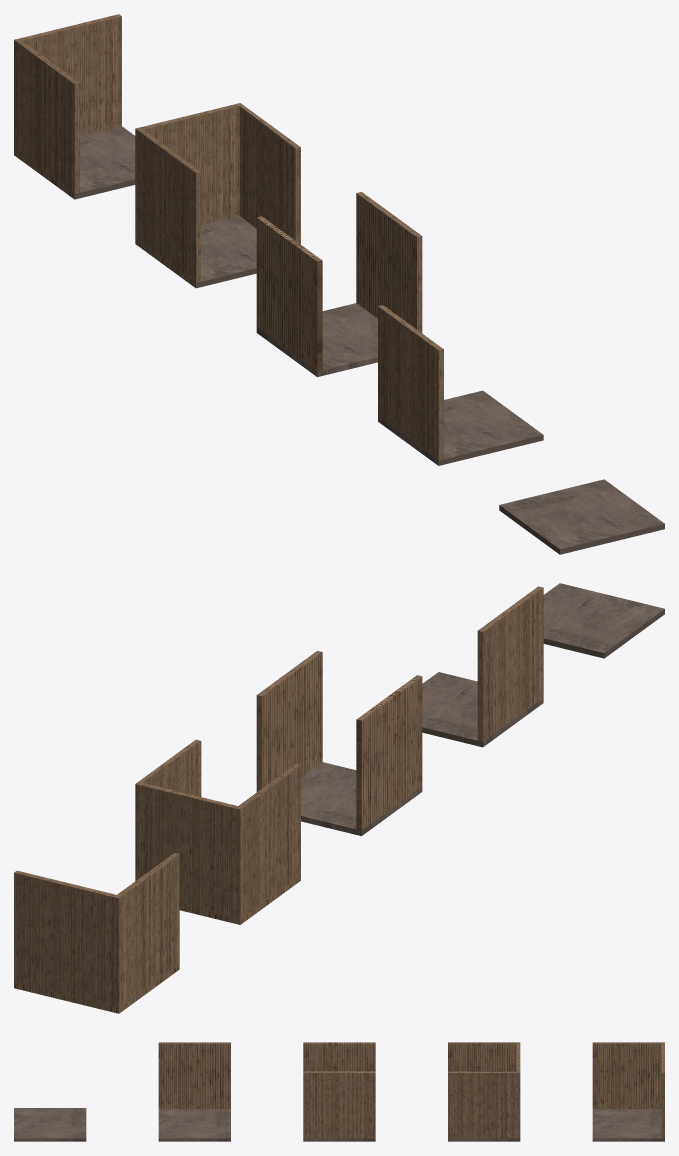
File: default_tileset.glb
3 renders of one model, top to bottom at view 1: azimuth 30°, elevation 25°; view 2: azimuth 150°, elevation 25°; view 3: azimuth 270°, elevation 25°, orthographic. The views are drawn at different scales.
Visible parts, largest first — view 1: end-col, corridor-col, corner-col, wall-col, floor-col; view 2: end-col, corner-col, corridor-col, wall-col, floor-col; view 3: corner-col, corridor-col, end-col, wall-col, floor-col.
Part boxes in pixels (<box>): end-col: <box>135,103,300,288</box>; corridor-col: <box>256,192,422,376</box>; corner-col: <box>14,14,135,199</box>; wall-col: <box>378,305,543,465</box>; floor-col: <box>499,479,664,554</box>; end-col: <box>135,739,300,924</box>; corner-col: <box>14,852,179,1013</box>; corridor-col: <box>256,651,422,836</box>; wall-col: <box>422,586,543,747</box>; floor-col: <box>543,583,664,658</box>; corner-col: <box>592,1042,664,1141</box>; corridor-col: <box>303,1042,375,1141</box>; end-col: <box>448,1042,520,1141</box>; wall-col: <box>158,1042,230,1141</box>; floor-col: <box>14,1108,86,1141</box>.
Size of the model in its own units: 1 by 1.05 by 9.
Materials: 2 (2 with a texture image).
